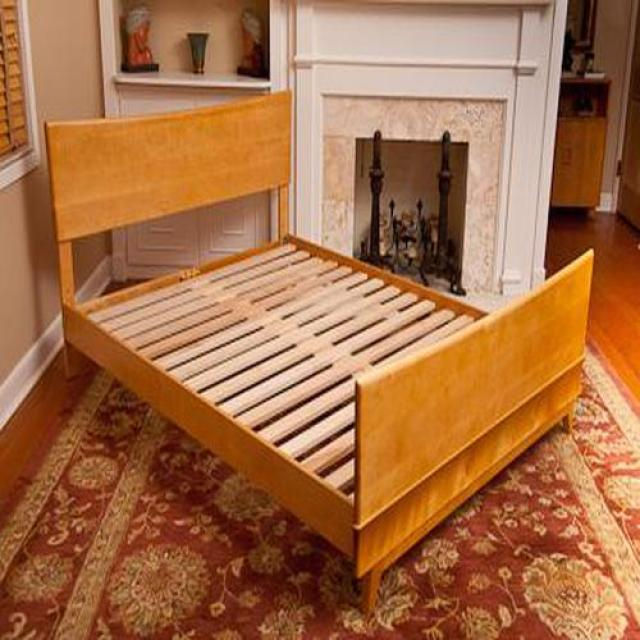bed: (46, 91, 594, 617)
